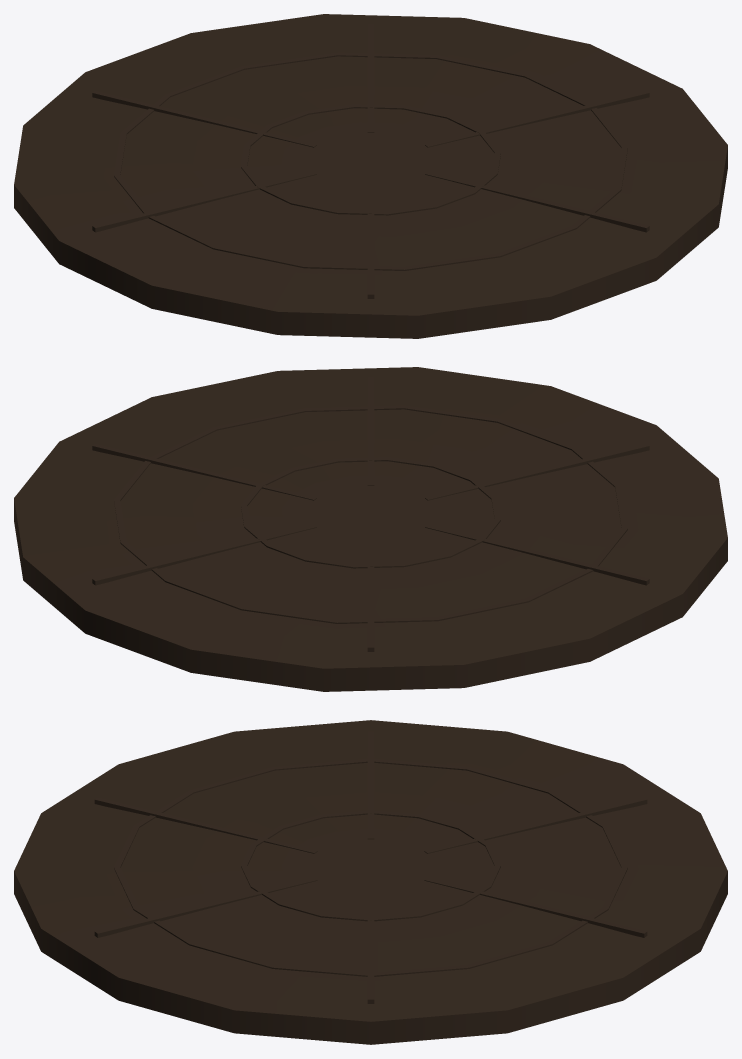
The model's file is tz12_ablator.obj.
3 renders of one model, top to bottom at view 1: azimuth 30°, elevation 25°; view 2: azimuth 150°, elevation 25°; view 3: azimuth 270°, elevation 25°, orthographic.
Visible parts, largest first — view 1: tz12_ablator; view 2: tz12_ablator; view 3: tz12_ablator.
Boxes of the visible parts, <box> form: tz12_ablator: <box>14,14,727,338</box>; tz12_ablator: <box>14,367,727,691</box>; tz12_ablator: <box>14,720,727,1044</box>.
Size of the model in its own units: 4.5 by 0.1986 by 4.5.
